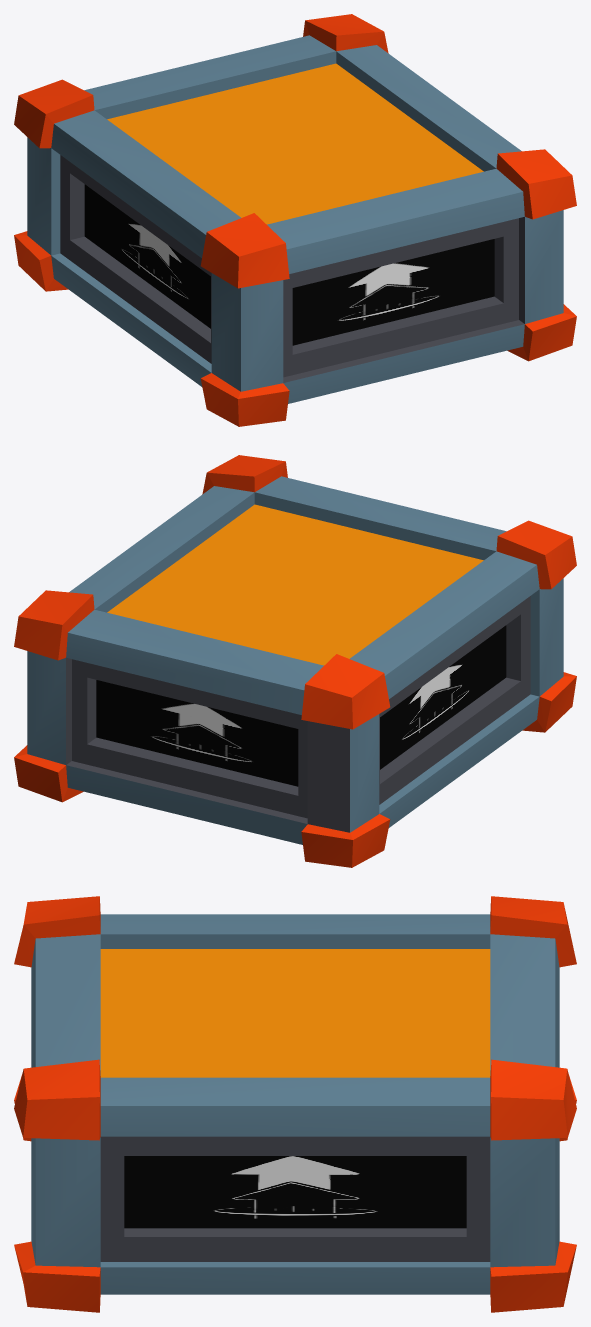
Rendered from double_jump.obj.
3 renders of one model, top to bottom at view 1: azimuth 30°, elevation 25°; view 2: azimuth 150°, elevation 25°; view 3: azimuth 270°, elevation 25°, orthographic. The views are drawn at different scales.
Parts seen in each view (by area): view 1: Box001, Object003, Object004, Object001, Object002; view 2: Box001, Object003, Object004, Object001, Object002; view 3: Box001, Object003, Object001, Object002, Object004.
Part boxes in pixels (x1,y1,x2,y2): Box001: (27, 35, 563, 403); Object003: (107, 63, 483, 224); Object004: (60, 155, 524, 382); Object001: (14, 14, 576, 426); Object002: (84, 184, 494, 345); Box001: (27, 476, 563, 844); Object003: (107, 504, 483, 665); Object004: (66, 596, 530, 832); Object001: (14, 455, 576, 867); Object002: (96, 625, 506, 786); Box001: (31, 914, 559, 1294); Object003: (100, 949, 490, 1077); Object001: (14, 896, 576, 1312); Object002: (124, 1156, 466, 1228); Object004: (100, 1136, 490, 1261).
Bounding box in the file's own units: 84.92 × 44.52 × 97.02.
5 materials, 1 textured.
